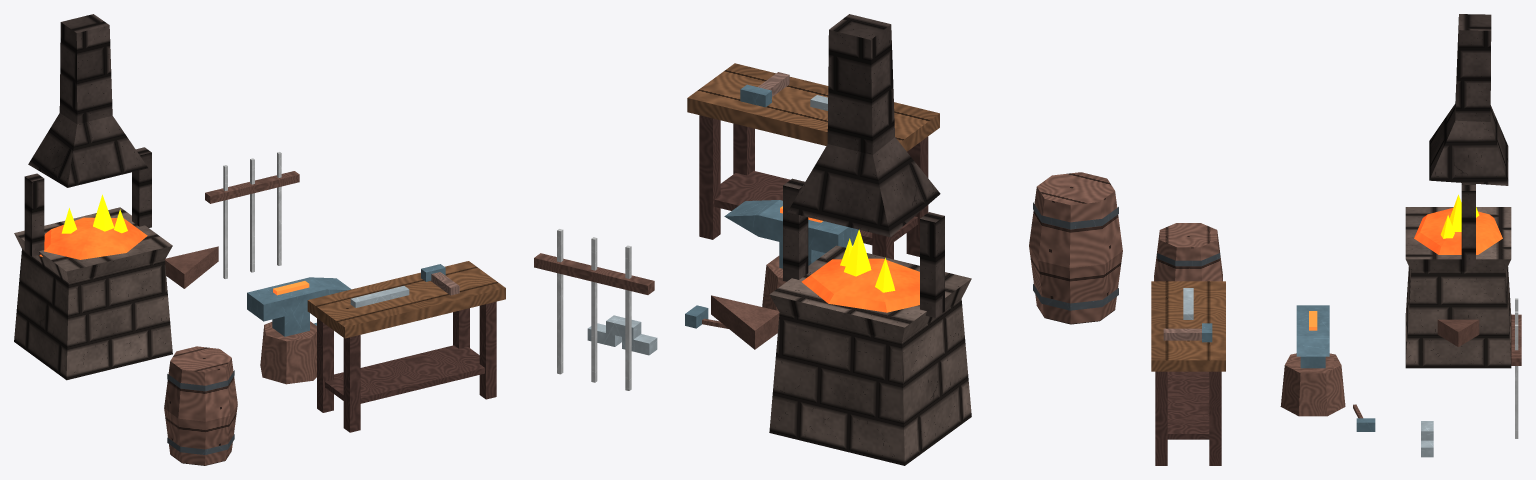
Rendered from workshop.glb.
3 views of the same model, side by side, from view 1: azimuth 30°, elevation 25°; view 2: azimuth 150°, elevation 25°; view 3: azimuth 270°, elevation 25° (orthographic). The views are drawn at different scales.
Visible parts, largest first — view 1: base_mesh, flame_0_mesh; view 2: base_mesh, flame_0_mesh; view 3: base_mesh, flame_0_mesh.
Boxes of the visible parts, <box> form: base_mesh: <box>14,14,505,465</box>; flame_0_mesh: <box>39,194,147,259</box>; base_mesh: <box>534,14,1122,465</box>; flame_0_mesh: <box>801,229,919,312</box>; base_mesh: <box>1151,14,1521,465</box>; flame_0_mesh: <box>1414,194,1502,254</box>.
Size of the model in its own units: 1.78 by 1.7 by 1.78.
Materials: 16 (14 with a texture image).
